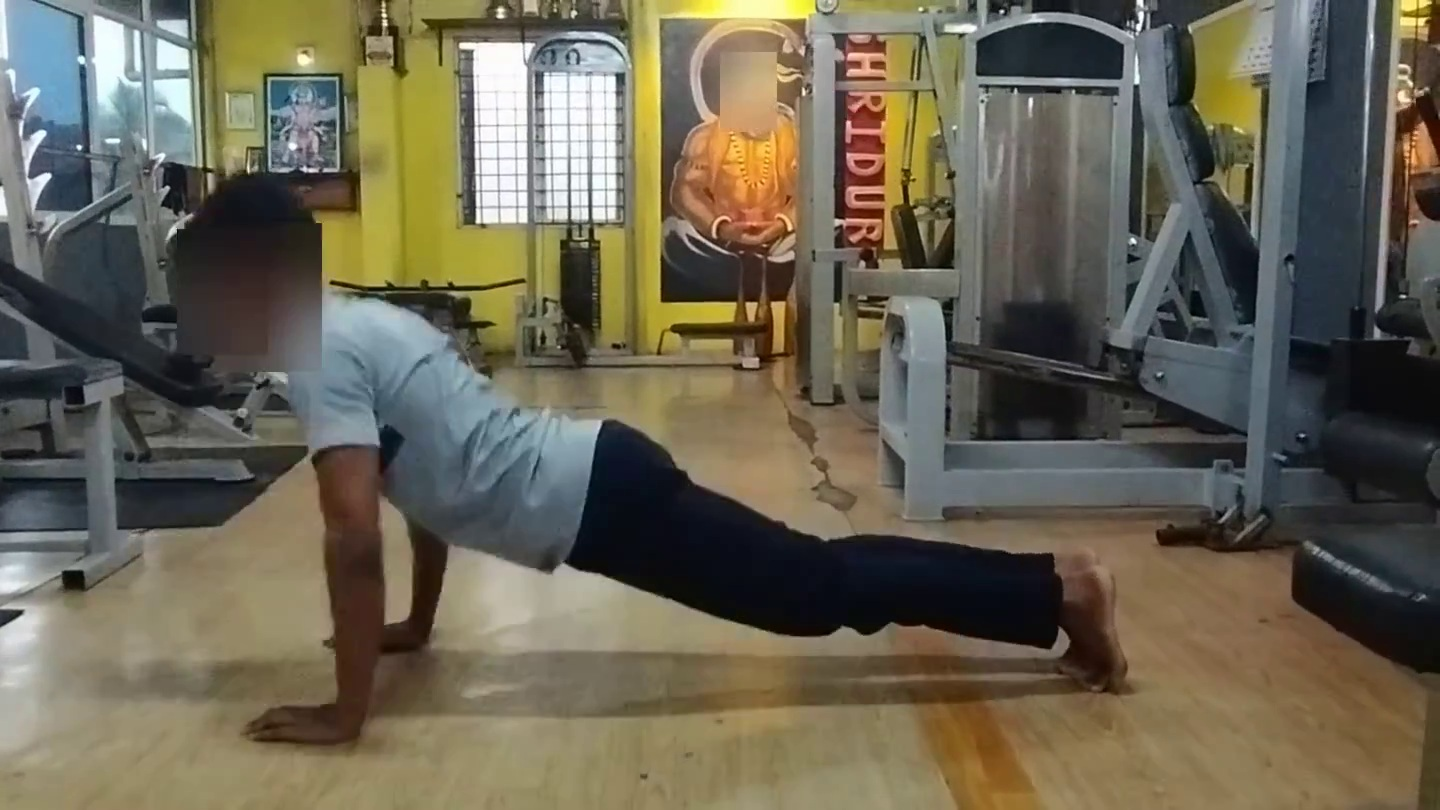push_up: (124, 201, 1181, 810)
